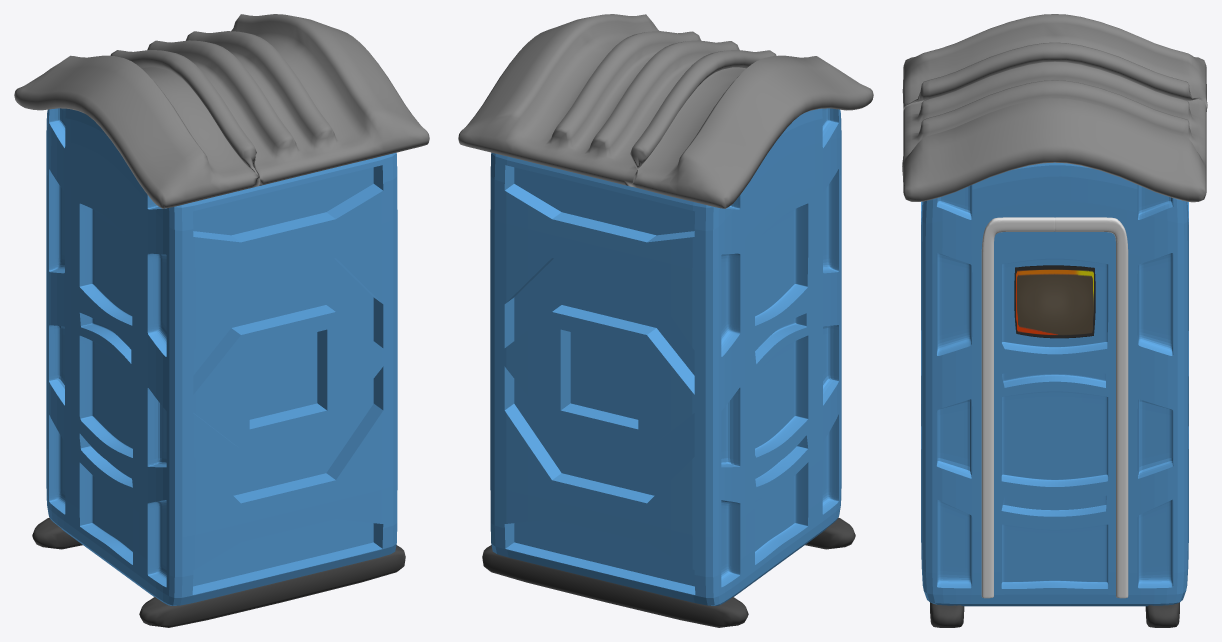
The model's file is PortaPotty.fbx.
The picture shows the model from 3 angles, left to right: view 1: azimuth 30°, elevation 25°; view 2: azimuth 150°, elevation 25°; view 3: azimuth 270°, elevation 25°; orthographic projection.
Parts seen in each view (by area): view 1: Base, Roof, Cube.001; view 2: Base, Roof, Cube.001; view 3: Base, Roof, Door, Sign, Cube.001.
Part boxes in pixels (x1,y1,x2,y2): Base: (46, 108, 397, 605); Roof: (14, 14, 429, 208); Cube.001: (32, 517, 405, 627); Base: (490, 108, 841, 605); Roof: (458, 14, 873, 208); Cube.001: (482, 517, 855, 627); Base: (921, 162, 1188, 606); Roof: (902, 14, 1207, 202); Door: (981, 217, 1128, 598); Sign: (1014, 265, 1095, 338); Cube.001: (930, 602, 1179, 627).
Bounding box in the file's own units: 350 × 638 × 342.
